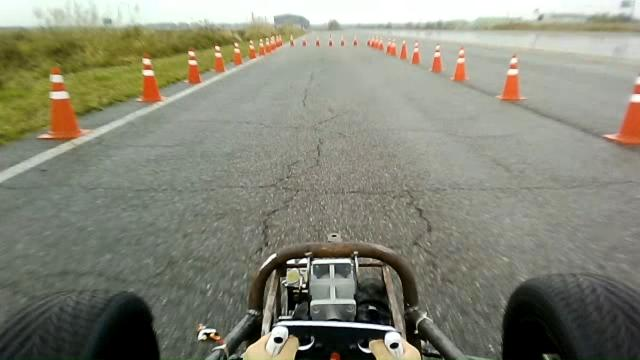red cone: (36, 65, 92, 140), (602, 75, 639, 146), (134, 52, 164, 103), (497, 53, 528, 102), (451, 45, 469, 82), (185, 47, 202, 84), (212, 44, 226, 73), (430, 43, 443, 73), (232, 41, 244, 65), (410, 39, 421, 65), (399, 40, 408, 60), (248, 39, 256, 59)
